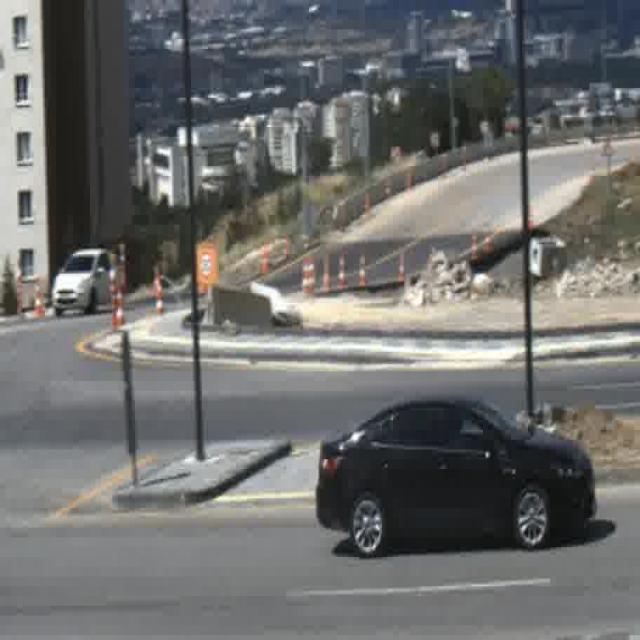Car: (318, 401, 596, 553), (53, 248, 113, 316)
